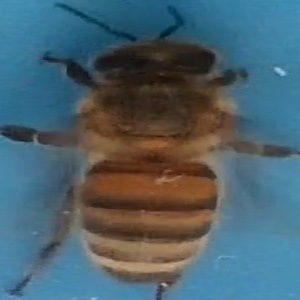bee: (5, 3, 295, 300)
